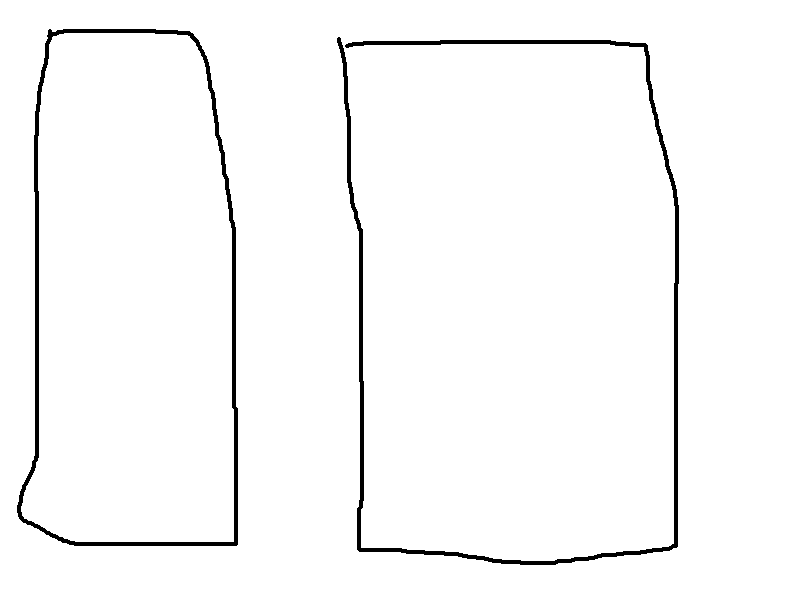rect: (332, 30, 689, 569), (17, 24, 245, 551)
